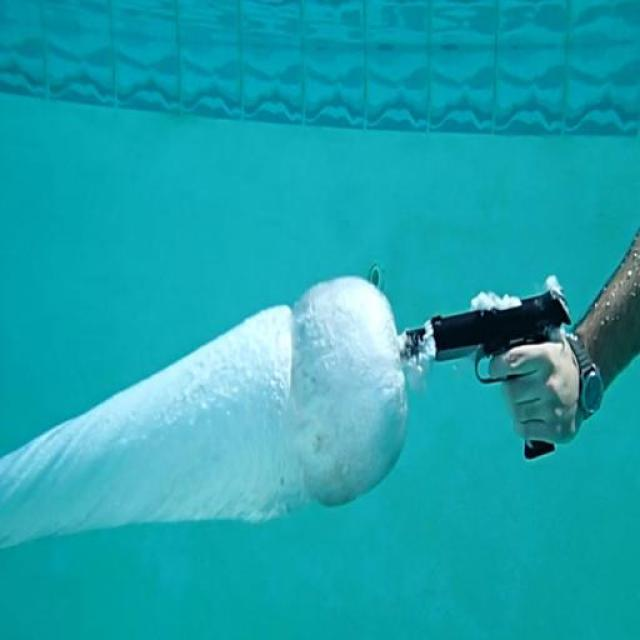pistol: (401, 286, 570, 462)
